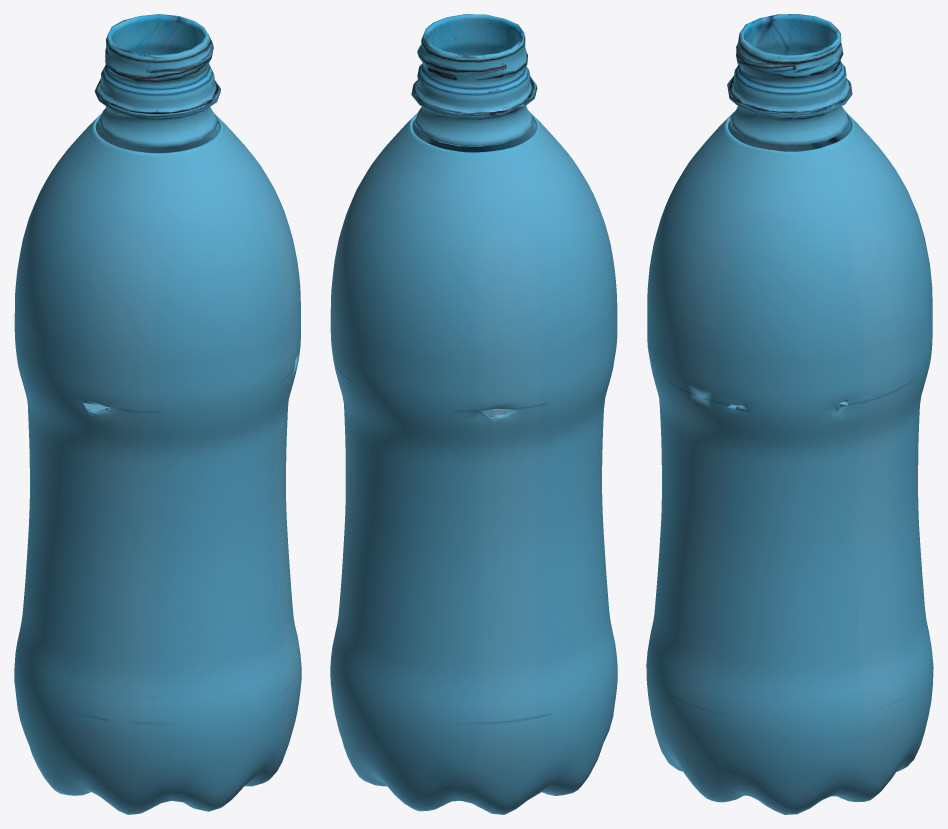
The model's file is blue+plastic+bottle+3d+model.fbx.
3 views of the same model, side by side, from view 1: azimuth 30°, elevation 25°; view 2: azimuth 150°, elevation 25°; view 3: azimuth 270°, elevation 25° (orthographic).
Visible parts, largest first — view 1: tripo_node_778dc49e; view 2: tripo_node_778dc49e; view 3: tripo_node_778dc49e.
Part boxes in pixels (box(x1,y1,x2,y2)): tripo_node_778dc49e: box(14, 14, 301, 814); tripo_node_778dc49e: box(330, 14, 617, 814); tripo_node_778dc49e: box(646, 14, 933, 814).
Size of the model in its own units: 0.3508 by 0.9965 by 0.3508.
1 material, 1 textured.
